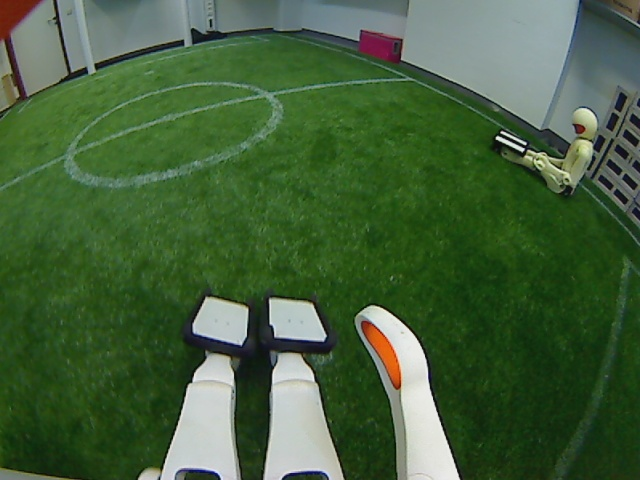robot: (145, 285, 448, 480), (494, 99, 597, 199)
